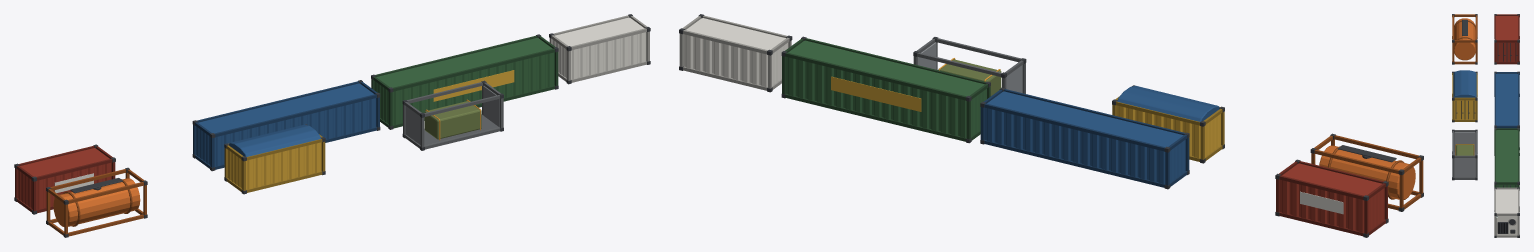
Rendered from containers.glb.
The picture shows the model from 3 angles, left to right: view 1: azimuth 30°, elevation 25°; view 2: azimuth 150°, elevation 25°; view 3: azimuth 270°, elevation 25°; orthographic projection. The views are drawn at different scales.
Visible parts, largest first — view 1: container hc body, container 40 body, container open body, container reefer body, container tank body, container flat body, container 20 body; view 2: container hc body, container 40 body, container 20 body, container reefer body, container open body, container tank body, container flat body; view 3: container hc body, container 40 body, container open body, container 20 body, container reefer body, container flat body, container tank body.
Part boxes in pixels (x1,y1,x2,y2): container hc body: (371,34,558,129); container 40 body: (192,80,380,171); container open body: (224,124,325,194); container reefer body: (549,14,650,84); container tank body: (46,167,147,237); container flat body: (402,80,503,150); container 20 body: (14,144,115,214); container hc body: (781,36,990,143); container 40 body: (980,87,1189,189); container 20 body: (1275,159,1388,237); container reefer body: (679,14,792,92); container open body: (1112,85,1224,163); container tank body: (1310,133,1423,211); container flat body: (913,37,1026,95); container hc body: (1494,128,1519,208); container 40 body: (1494,71,1519,149); container open body: (1452,70,1477,122); container 20 body: (1494,14,1519,64); container reefer body: (1494,187,1519,237); container flat body: (1452,129,1477,180); container tank body: (1452,14,1477,64).
Size of the model in its own units: 18.03 by 1.19 by 2.58.
